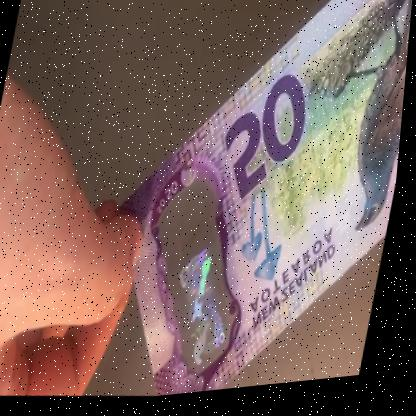50B: (162, 184, 259, 379)
